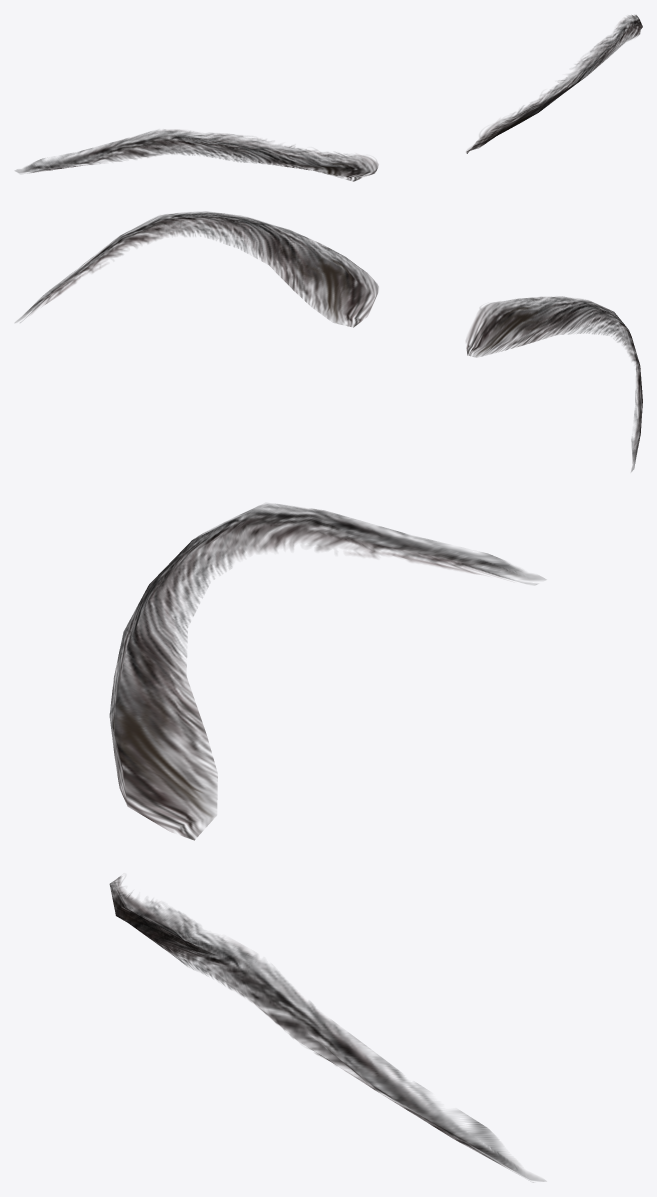
The model's file is eyebrows.glb.
3 renders of one model, top to bottom at view 1: azimuth 30°, elevation 25°; view 2: azimuth 150°, elevation 25°; view 3: azimuth 270°, elevation 25°, orthographic. The views are drawn at different scales.
Visible parts, largest first — view 1: Human.eyebrow002; view 2: Human.eyebrow002; view 3: Human.eyebrow002.
Boxes of the visible parts, bbox=[...] form: Human.eyebrow002: bbox=[15, 15, 642, 181]; Human.eyebrow002: bbox=[15, 211, 642, 471]; Human.eyebrow002: bbox=[109, 504, 545, 1181].
Size of the model in its own units: 0.1118 by 0.0146 by 0.0344.
1 material, 1 textured.
